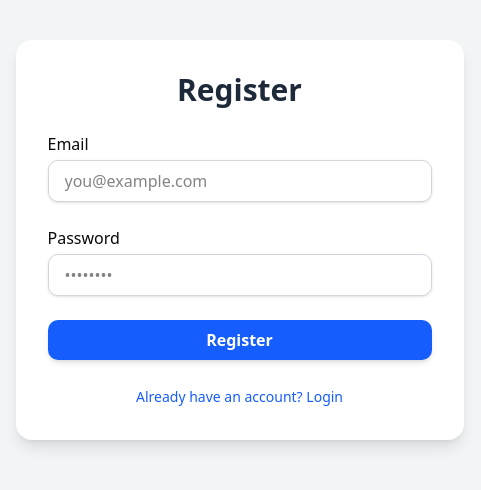
Test: Register - Email and Password Validation (Formik + Yup) › Password Validation › should show error when password missing lowercase
Type "aaaa@gmail.com" into the field named "email" at (240, 181), box [48,160,432,202]
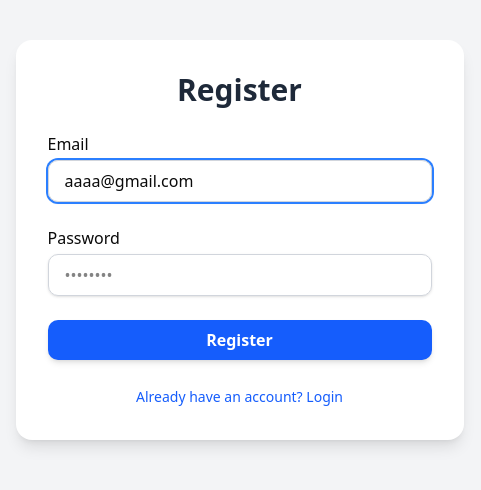
Type "A123456789_" into the password field named "password" at (240, 275), box [48,254,432,296]
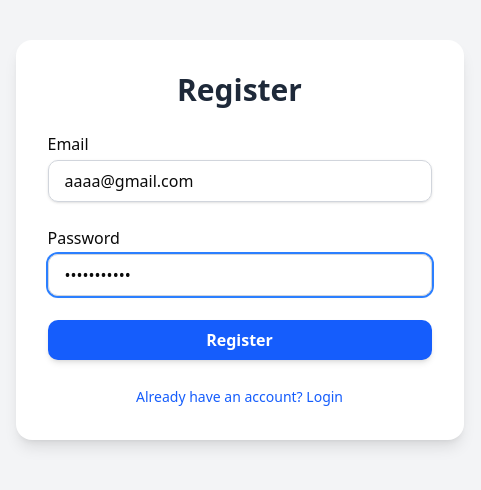
Click the submit button at (240, 340), box [48,320,432,360]
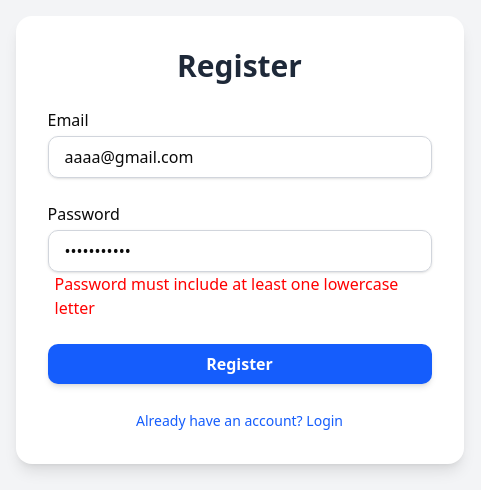
Check: the heading named "error-password" reads "Password must include at least one lowercase letter", box [48,272,432,320]
